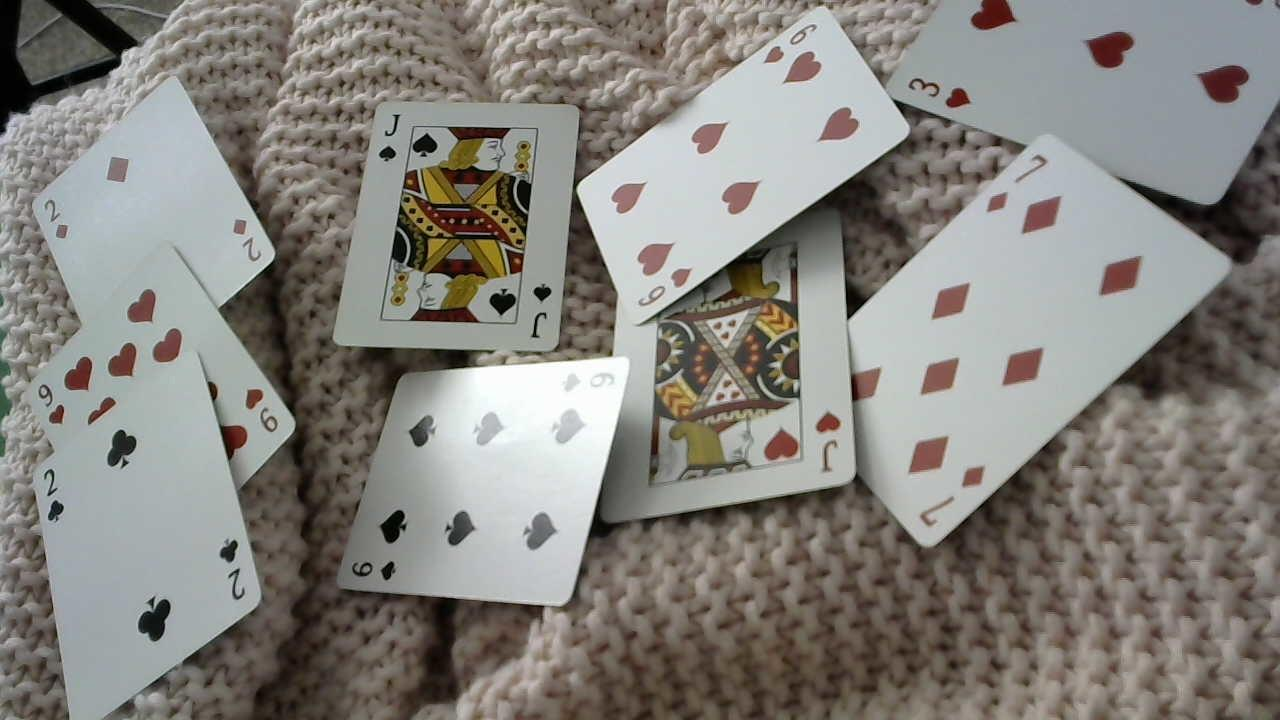2C: (211, 531, 254, 601), (40, 463, 68, 525)
2D: (227, 213, 268, 267), (39, 194, 75, 244)
3H: (905, 68, 976, 114)
6H: (763, 18, 821, 69), (635, 263, 699, 309)
6S: (556, 368, 618, 399), (347, 554, 401, 583)
7D: (916, 461, 986, 529), (981, 147, 1051, 214)
9H: (239, 384, 285, 437), (36, 382, 68, 427)
JH: (811, 406, 844, 478)
JS: (374, 107, 406, 166), (528, 282, 556, 342)
